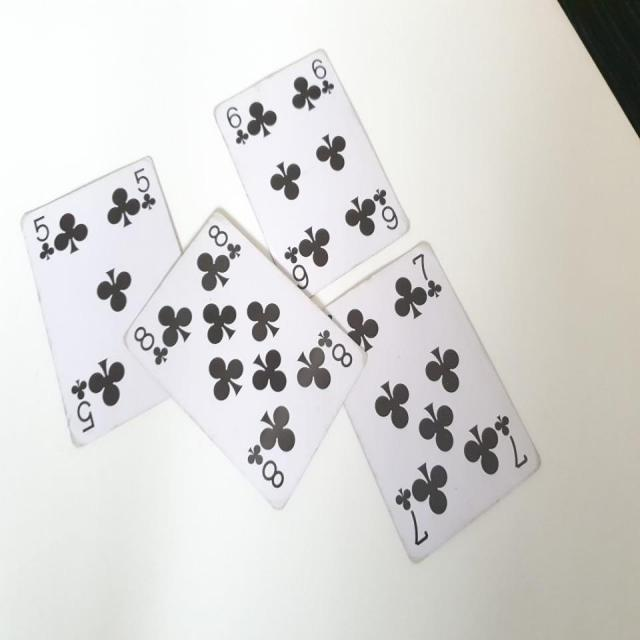5 Trefoils: (18, 150, 179, 449)
6 Trefoils: (212, 47, 413, 296)
7 Trefoils: (321, 240, 544, 565)
8 Trefoils: (123, 212, 368, 510)
